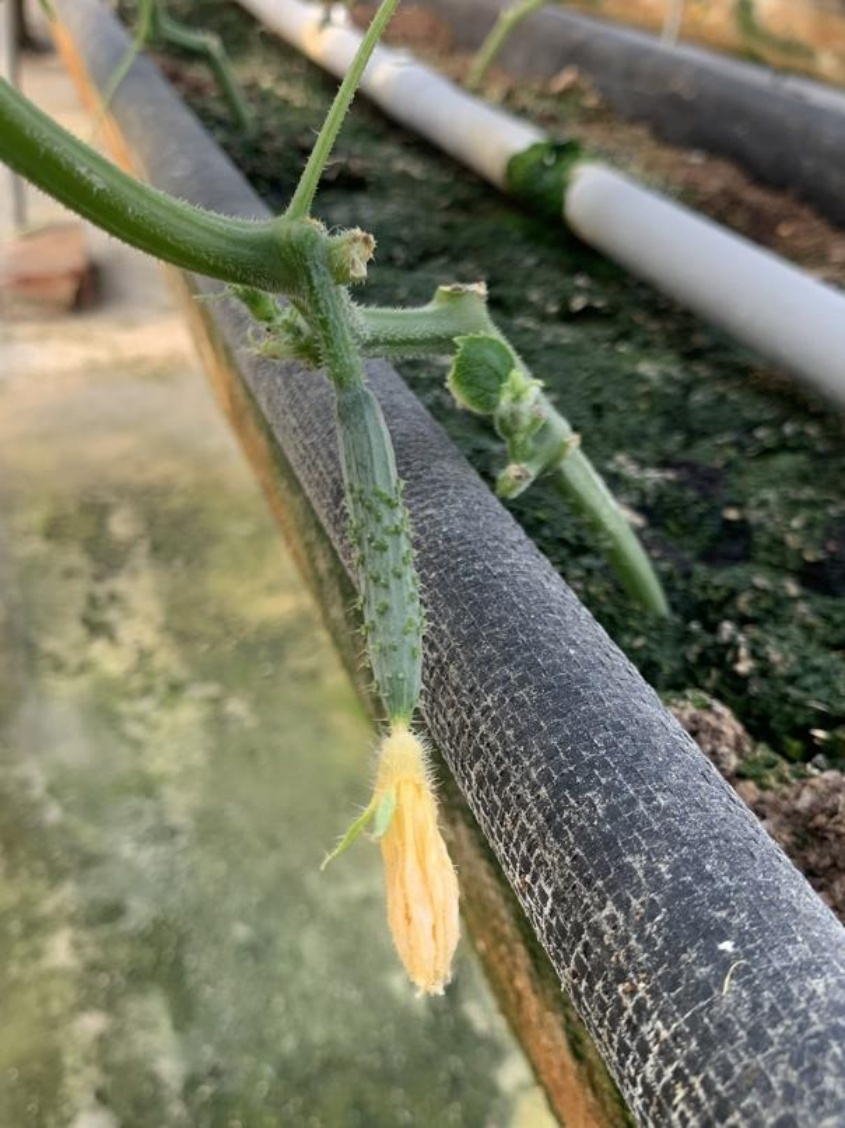bear: (277, 357, 498, 1020)
